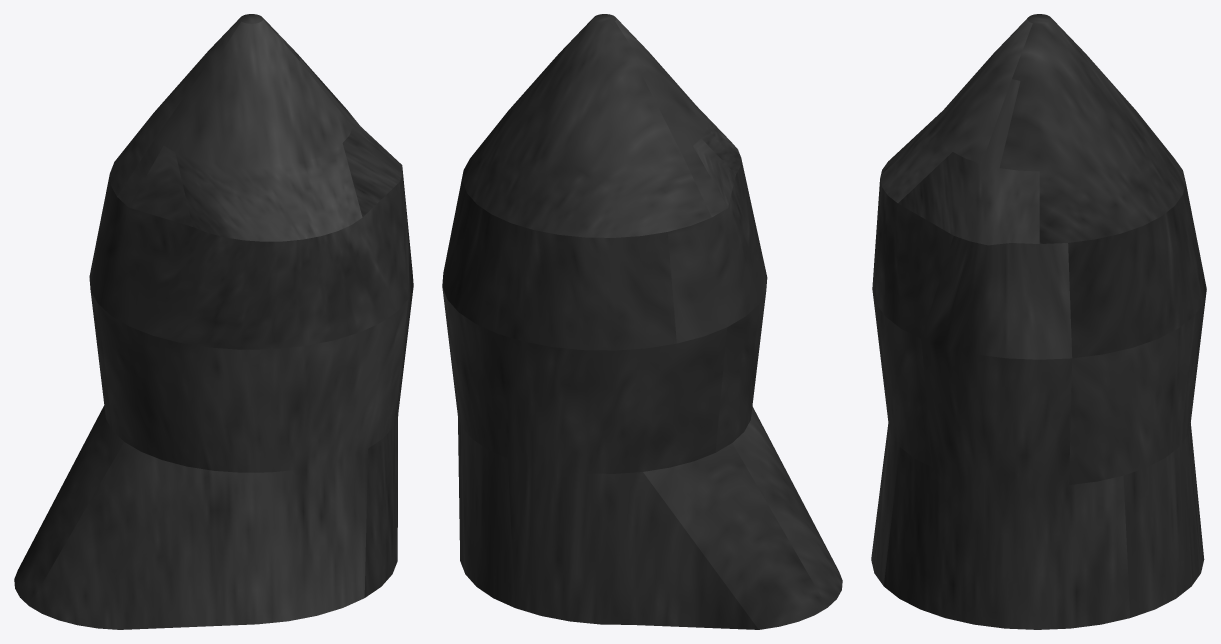
Rendered from HellPillarSmall.fbx.
The picture shows the model from 3 angles, left to right: view 1: azimuth 30°, elevation 25°; view 2: azimuth 150°, elevation 25°; view 3: azimuth 270°, elevation 25°; orthographic projection. The views are drawn at different scales.
Parts seen in each view (by area): view 1: Cylinder.002; view 2: Cylinder.002; view 3: Cylinder.002.
Part boxes in pixels (x1,y1,x2,y2): Cylinder.002: (14,14,413,629); Cylinder.002: (442,14,842,629); Cylinder.002: (871,14,1206,629).
Size of the model in its own units: 119 by 166 by 92.28.
